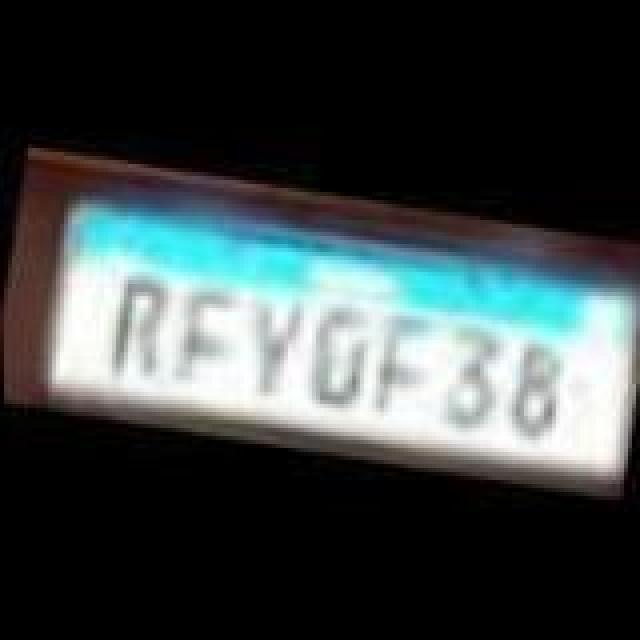3: (424, 312, 508, 428)
8: (498, 326, 578, 442)
D: (298, 300, 378, 420)
F: (166, 278, 250, 402), (356, 306, 432, 426)
R: (96, 266, 176, 386)
Y: (232, 286, 312, 406)
